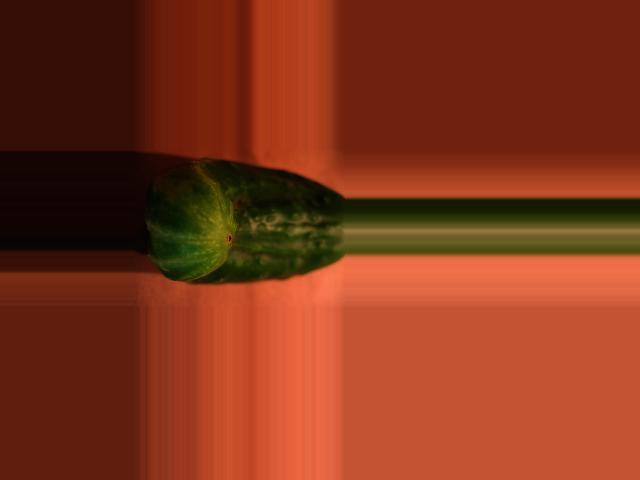cucumber: (146, 159, 345, 285)
